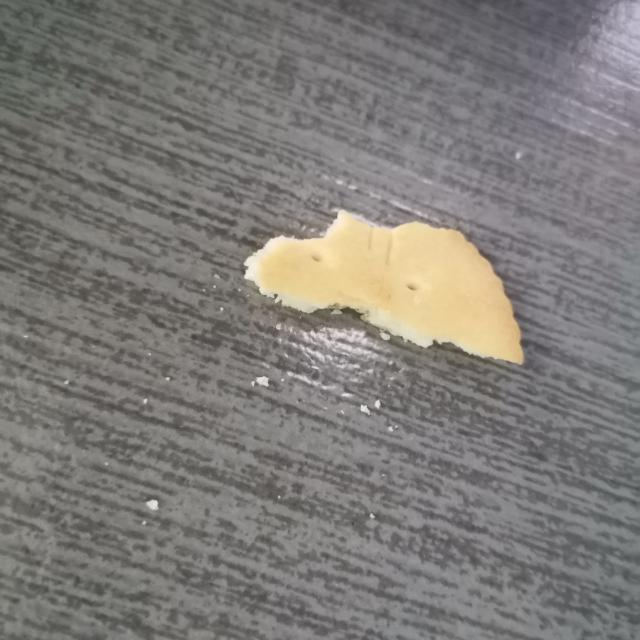Broken: (243, 207, 525, 365)
